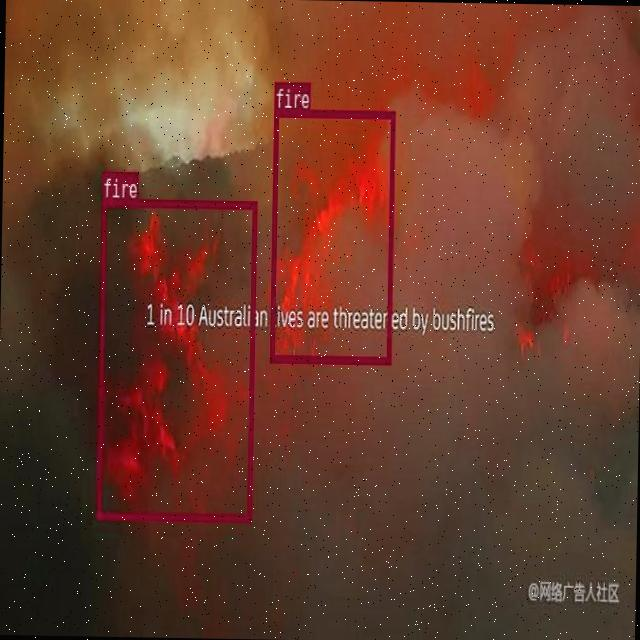fire: (95, 197, 256, 520), (269, 107, 394, 362)
